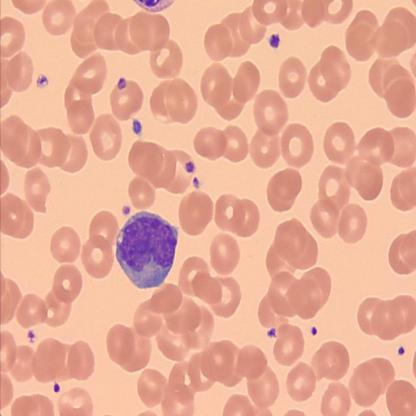Monocyte: (114, 210, 179, 292)
